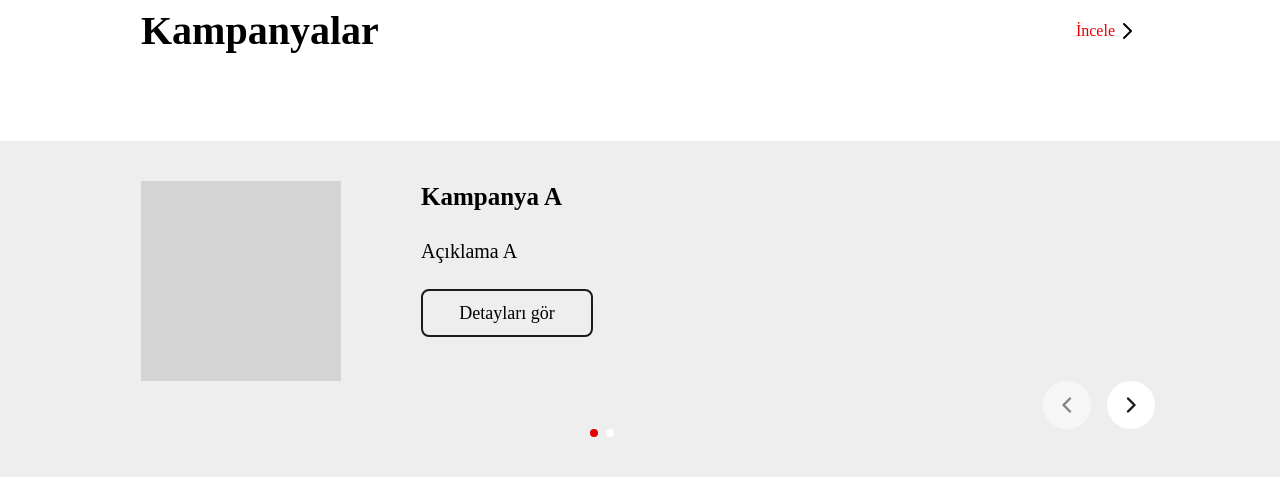
Test: Campaigns › advances to the next campaign and disables the arrows at the ends (no loop, like live)
Expected: the button named "Önceki kampanya" is disabled, [1043,381,1091,429]
Click the button named "Sonraki kampanya".
click(1131, 405)  # box [1107,381,1155,429]
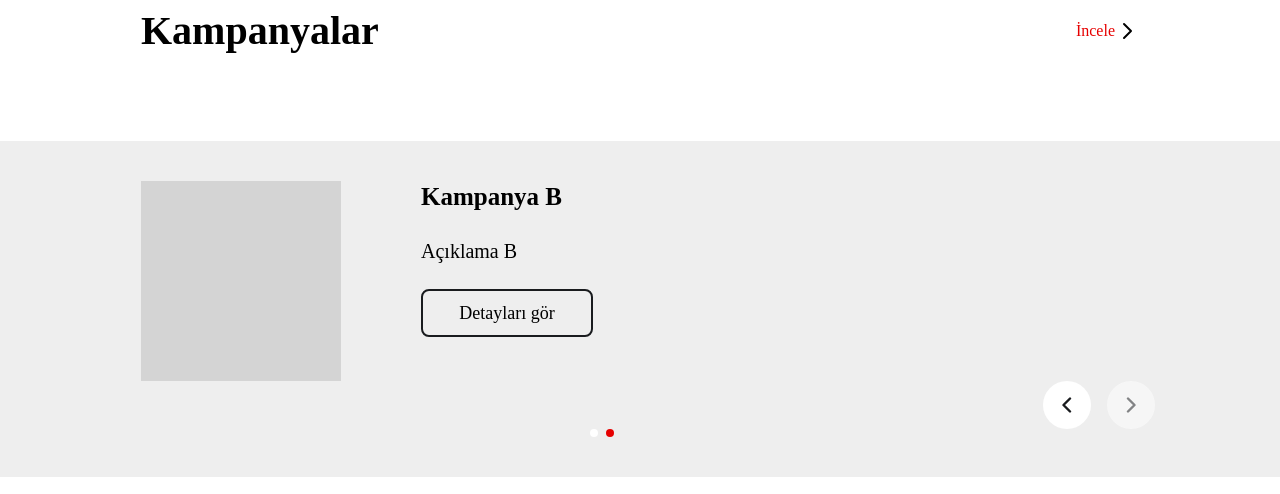
Expected: the button named "Sonraki kampanya" is disabled, [1107,381,1155,429]
Expected: the button named "Önceki kampanya" is enabled, [1043,381,1091,429]
